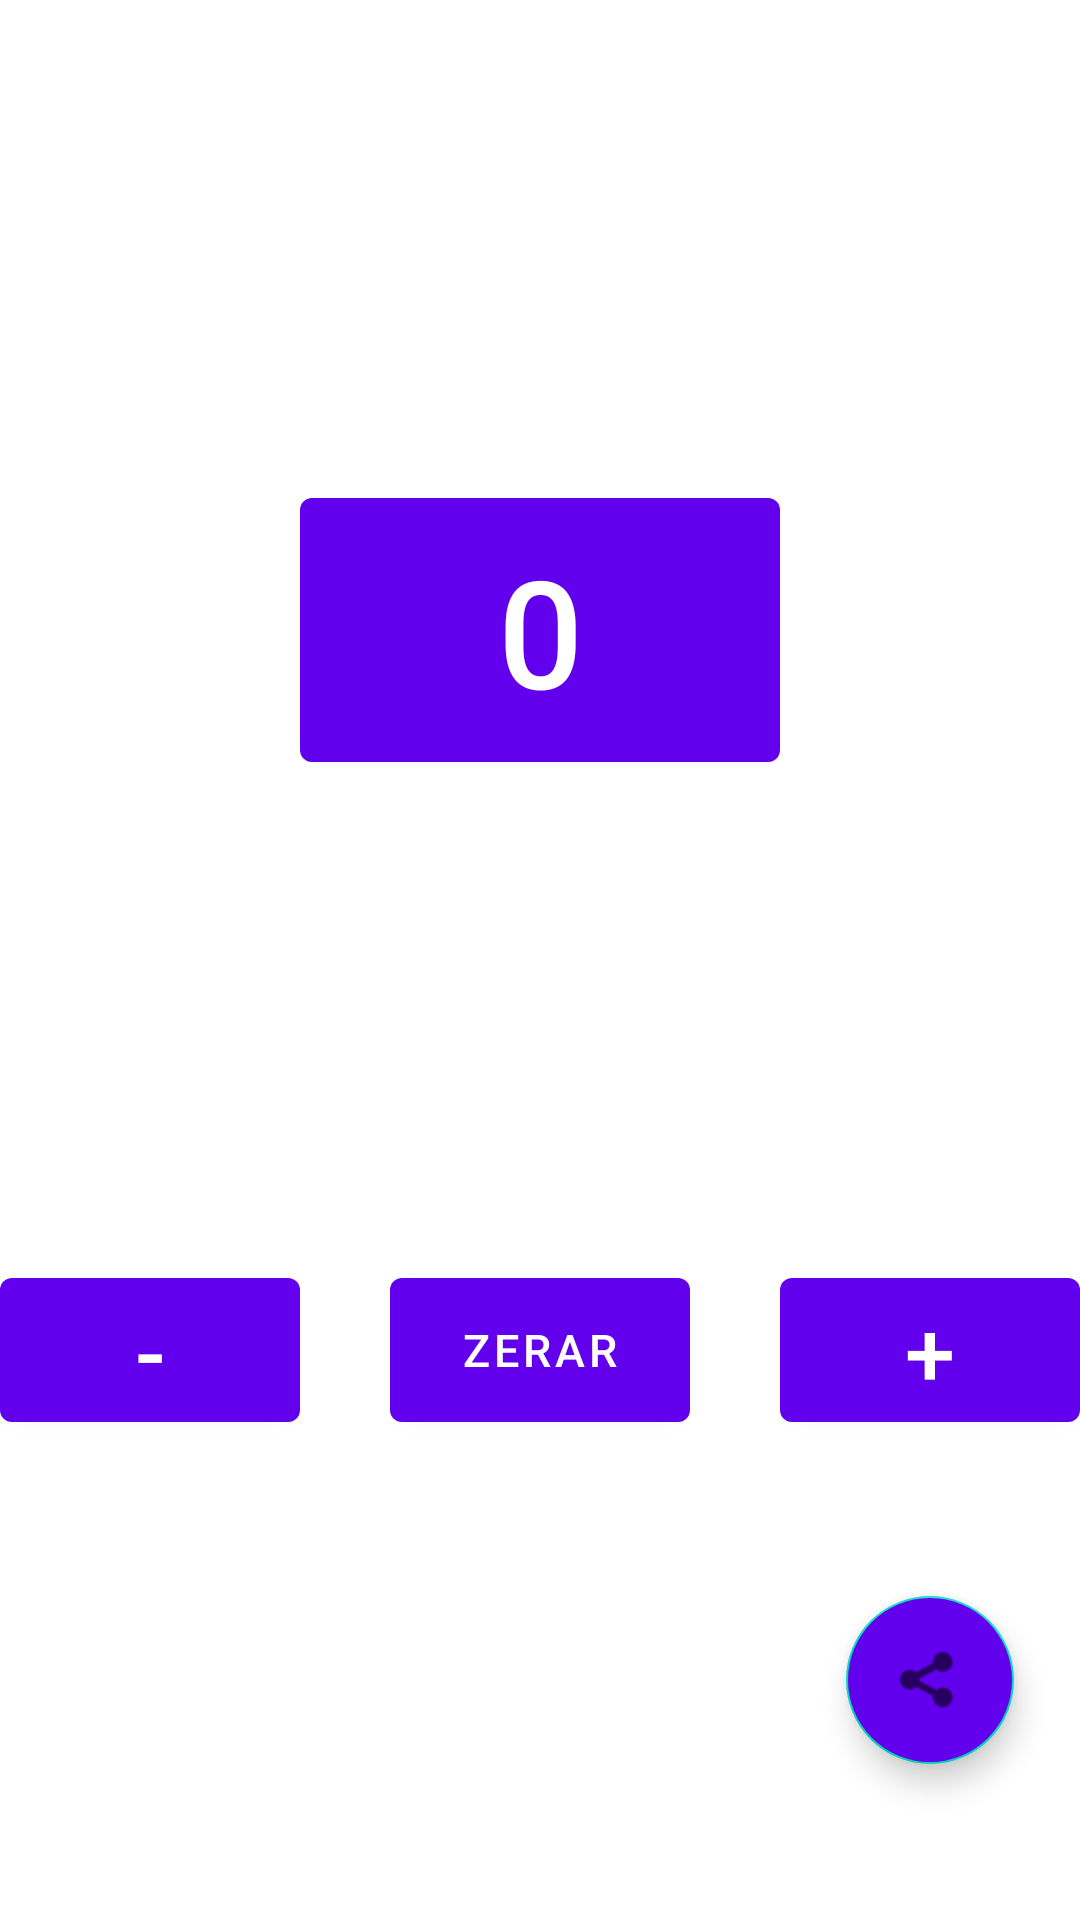

Point at icon controls on the screen. Image size 1080x1920, points as (x,y).
share: (930,1680)
